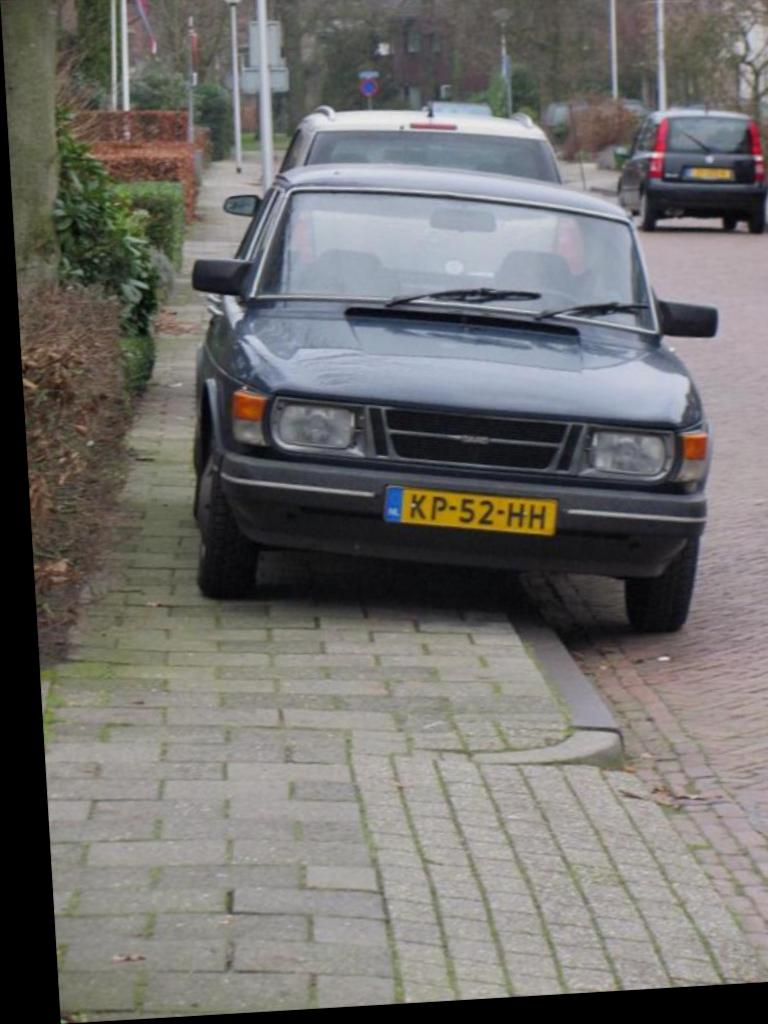License_Plate: (380, 471, 562, 543)
